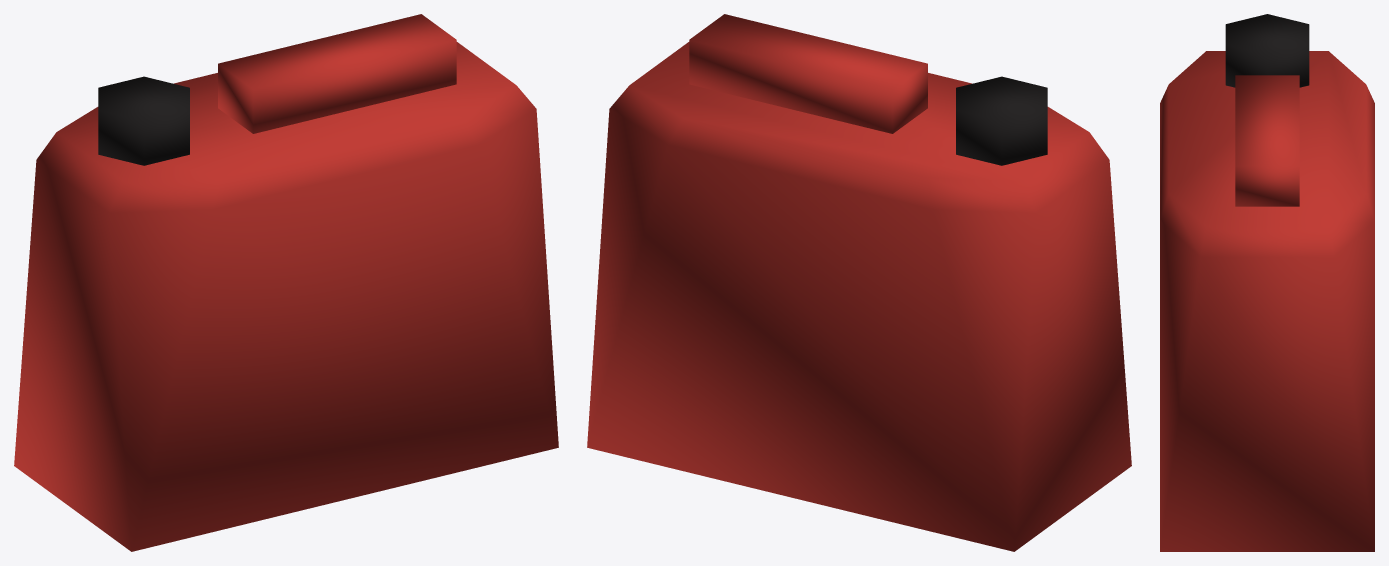
File: item_rm_chemfuel_a.obj
The picture shows the model from 3 angles, left to right: view 1: azimuth 30°, elevation 25°; view 2: azimuth 150°, elevation 25°; view 3: azimuth 270°, elevation 25°; orthographic projection. The views are drawn at different scales.
Visible parts, largest first — view 1: item_rm_chemfuel_a_component_02, item_rm_chemfuel_a_component_03, item_rm_chemfuel_a_component_01; view 2: item_rm_chemfuel_a_component_02, item_rm_chemfuel_a_component_03, item_rm_chemfuel_a_component_01; view 3: item_rm_chemfuel_a_component_02, item_rm_chemfuel_a_component_03, item_rm_chemfuel_a_component_01.
Boxes of the visible parts, x1=… form: item_rm_chemfuel_a_component_02: x1=14, y1=42, x2=558, y2=551; item_rm_chemfuel_a_component_03: x1=218, y1=14, x2=456, y2=133; item_rm_chemfuel_a_component_01: x1=98, y1=76, x2=189, y2=165; item_rm_chemfuel_a_component_02: x1=587, y1=42, x2=1131, y2=551; item_rm_chemfuel_a_component_03: x1=689, y1=14, x2=927, y2=133; item_rm_chemfuel_a_component_01: x1=956, y1=76, x2=1047, y2=165; item_rm_chemfuel_a_component_02: x1=1160, y1=51, x2=1374, y2=551; item_rm_chemfuel_a_component_03: x1=1235, y1=75, x2=1299, y2=206; item_rm_chemfuel_a_component_01: x1=1225, y1=14, x2=1309, y2=87.
Size of the model in its own units: 0.5712 by 0.5016 by 0.272.
